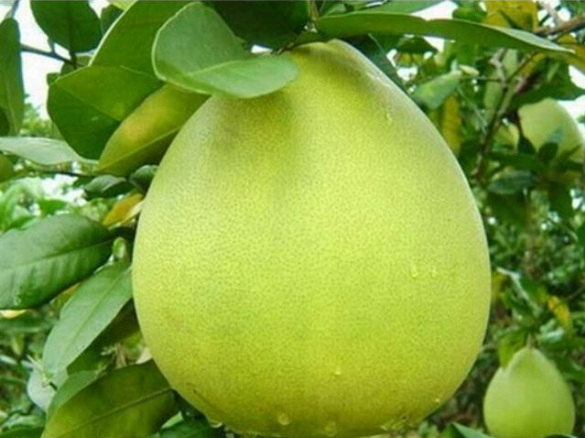buoi: (131, 35, 493, 436), (481, 337, 576, 436), (506, 90, 585, 177)
